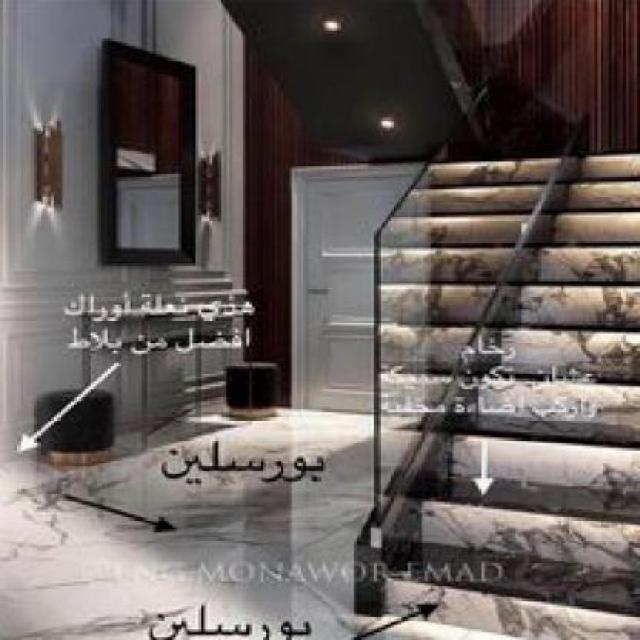stair: (328, 118, 638, 627)
